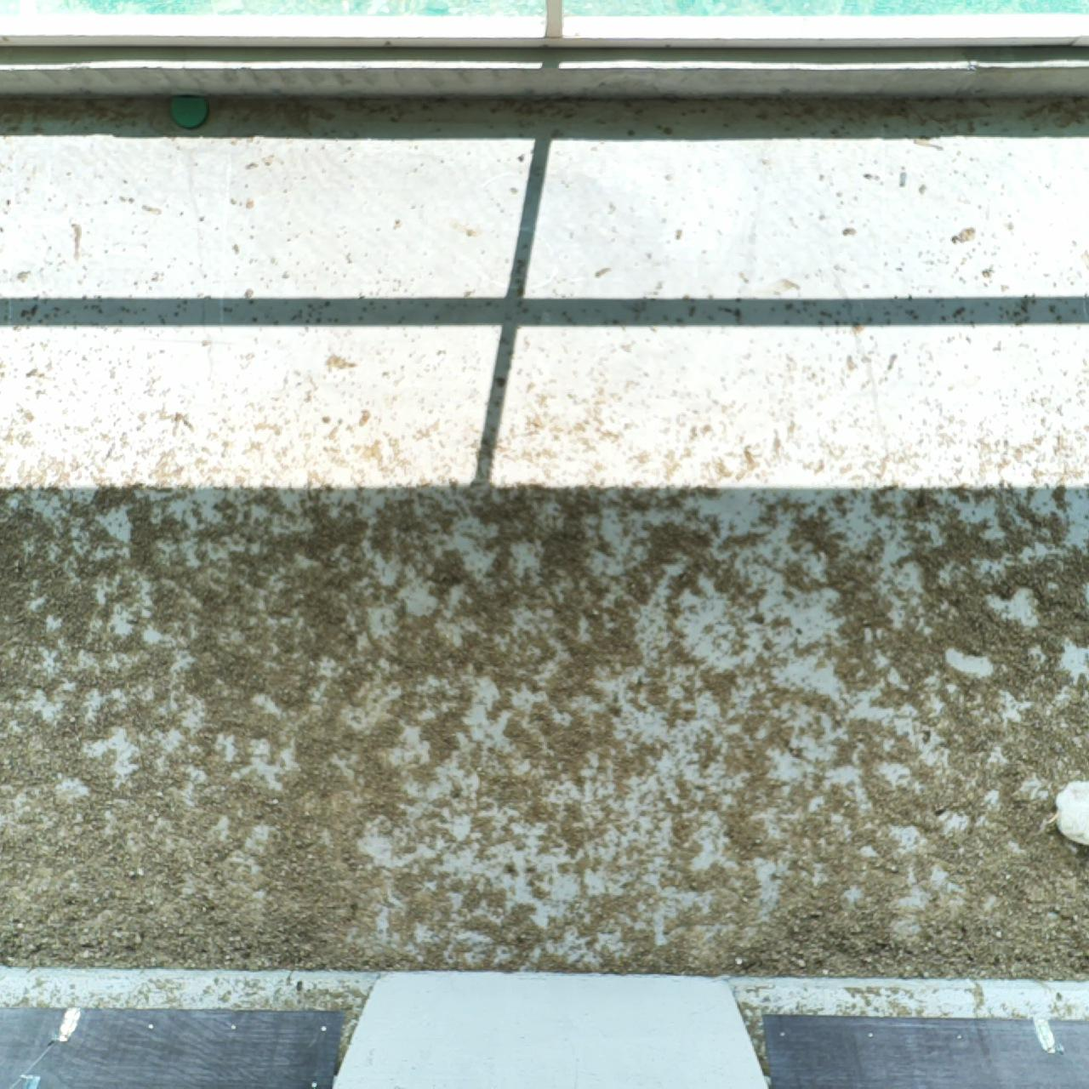chicken: (1036, 777, 1089, 849)
